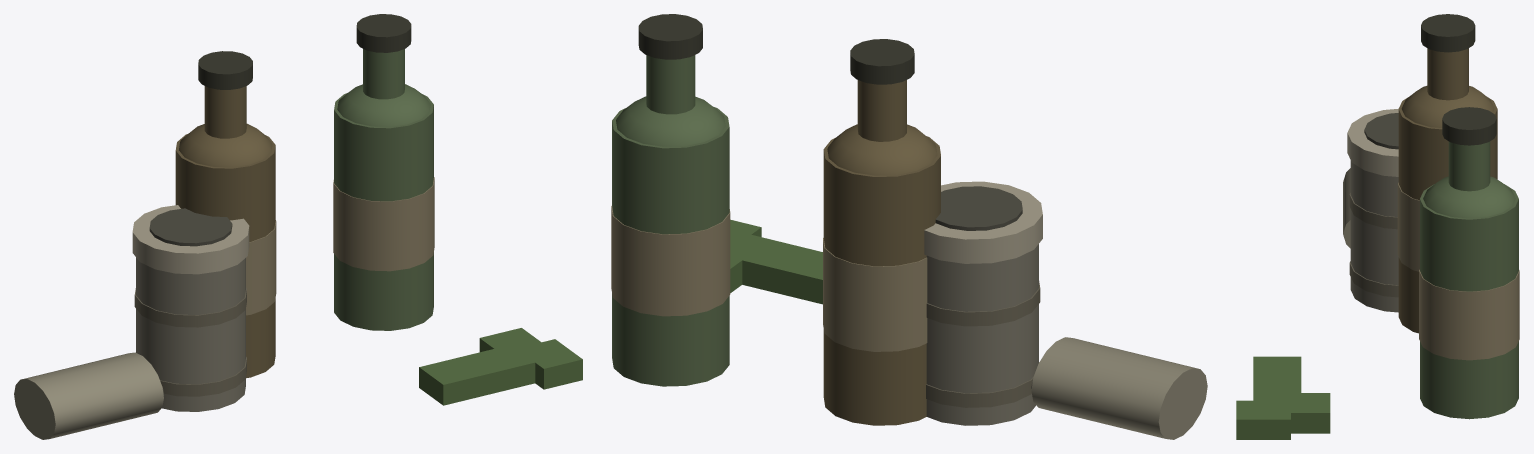
The model's file is CMU3DDecorFloorGlass1.glb.
3 renders of one model, left to right at view 1: azimuth 30°, elevation 25°; view 2: azimuth 150°, elevation 25°; view 3: azimuth 270°, elevation 25°, orthographic. The views are drawn at different scales.
Visible parts, largest first — view 1: discarded bottle body (×2), dented metal can, weathered paper label (×2), crushed can, broken glass shard (×3), bottle shoulder (×2), rolled can rim, bottle neck (×2), bottle mouth rim (×2), can seam (×2), dark can top; view 2: discarded bottle body (×2), weathered paper label (×2), dented metal can, crushed can, bottle shoulder (×2), bottle neck (×2), bottle mouth rim (×2), rolled can rim, broken glass shard, can seam (×2), dark can top; view 3: discarded bottle body (×2), weathered paper label (×2), broken glass shard (×3), dented metal can, bottle shoulder (×2), bottle neck (×2), bottle mouth rim (×2), rolled can rim, can seam (×2), dark can top, crushed can.
Boxes of the visible parts, x1,y1,x2,y2 form: discarded bottle body (×2): (175,93,433,378); dented metal can: (136,257,245,411); weathered paper label (×2): (246,177,434,315); crushed can: (14,352,163,439); broken glass shard (×3): (419,328,582,405); bottle shoulder (×2): (179,84,430,167); rolled can rim: (132,205,249,274); bottle neck (×2): (204,49,404,138); bottle mouth rim (×2): (198,14,411,89); can seam (×2): (134,287,246,396); dark can top: (149,208,232,246); discarded bottle body (×2): (612,107,940,425); weathered paper label (×2): (611,206,927,351); dented metal can: (926,244,1038,425); crushed can: (1031,337,1207,439); bottle shoulder (×2): (616,96,937,175); bottle neck (×2): (646,55,906,141); bottle mouth rim (×2): (638,14,914,84); rolled can rim: (924,181,1042,263); broken glass shard: (730,233,822,304); can seam (×2): (926,281,1040,407); dark can top: (935,186,1022,230); discarded bottle body (×2): (1398,97,1518,419); weathered paper label (×2): (1397,182,1519,360); broken glass shard (×3): (1236,356,1330,439); dented metal can: (1350,160,1398,312); bottle shoulder (×2): (1401,86,1515,218); bottle neck (×2): (1427,48,1490,191); bottle mouth rim (×2): (1421,14,1496,145); rolled can rim: (1347,108,1398,176); can seam (×2): (1349,193,1398,297); dark can top: (1364,113,1398,149); crushed can: (1343,168,1350,248).
Size of the model in its own units: 0.7862 by 0.4758 by 0.4148.
